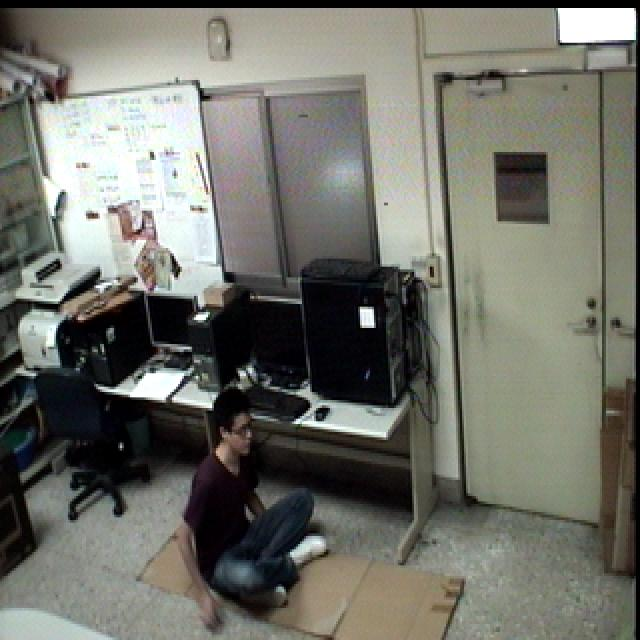sit: (169, 381, 331, 636)
